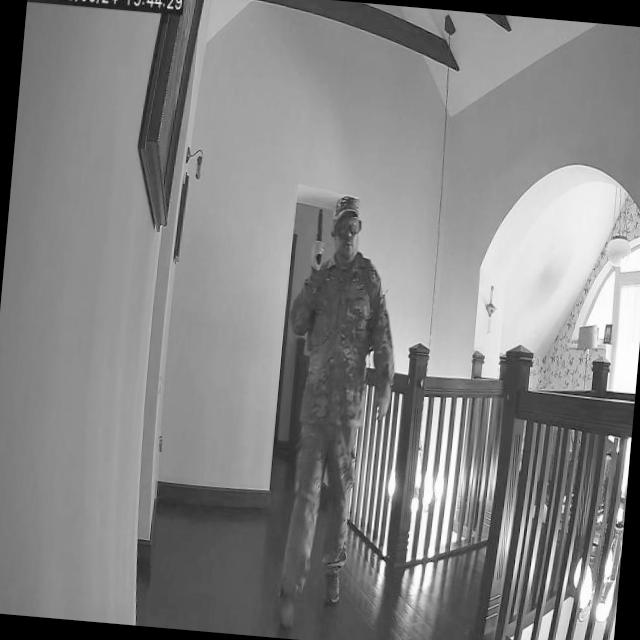gun: (310, 204, 329, 268)
person with a gun: (262, 188, 408, 633)
